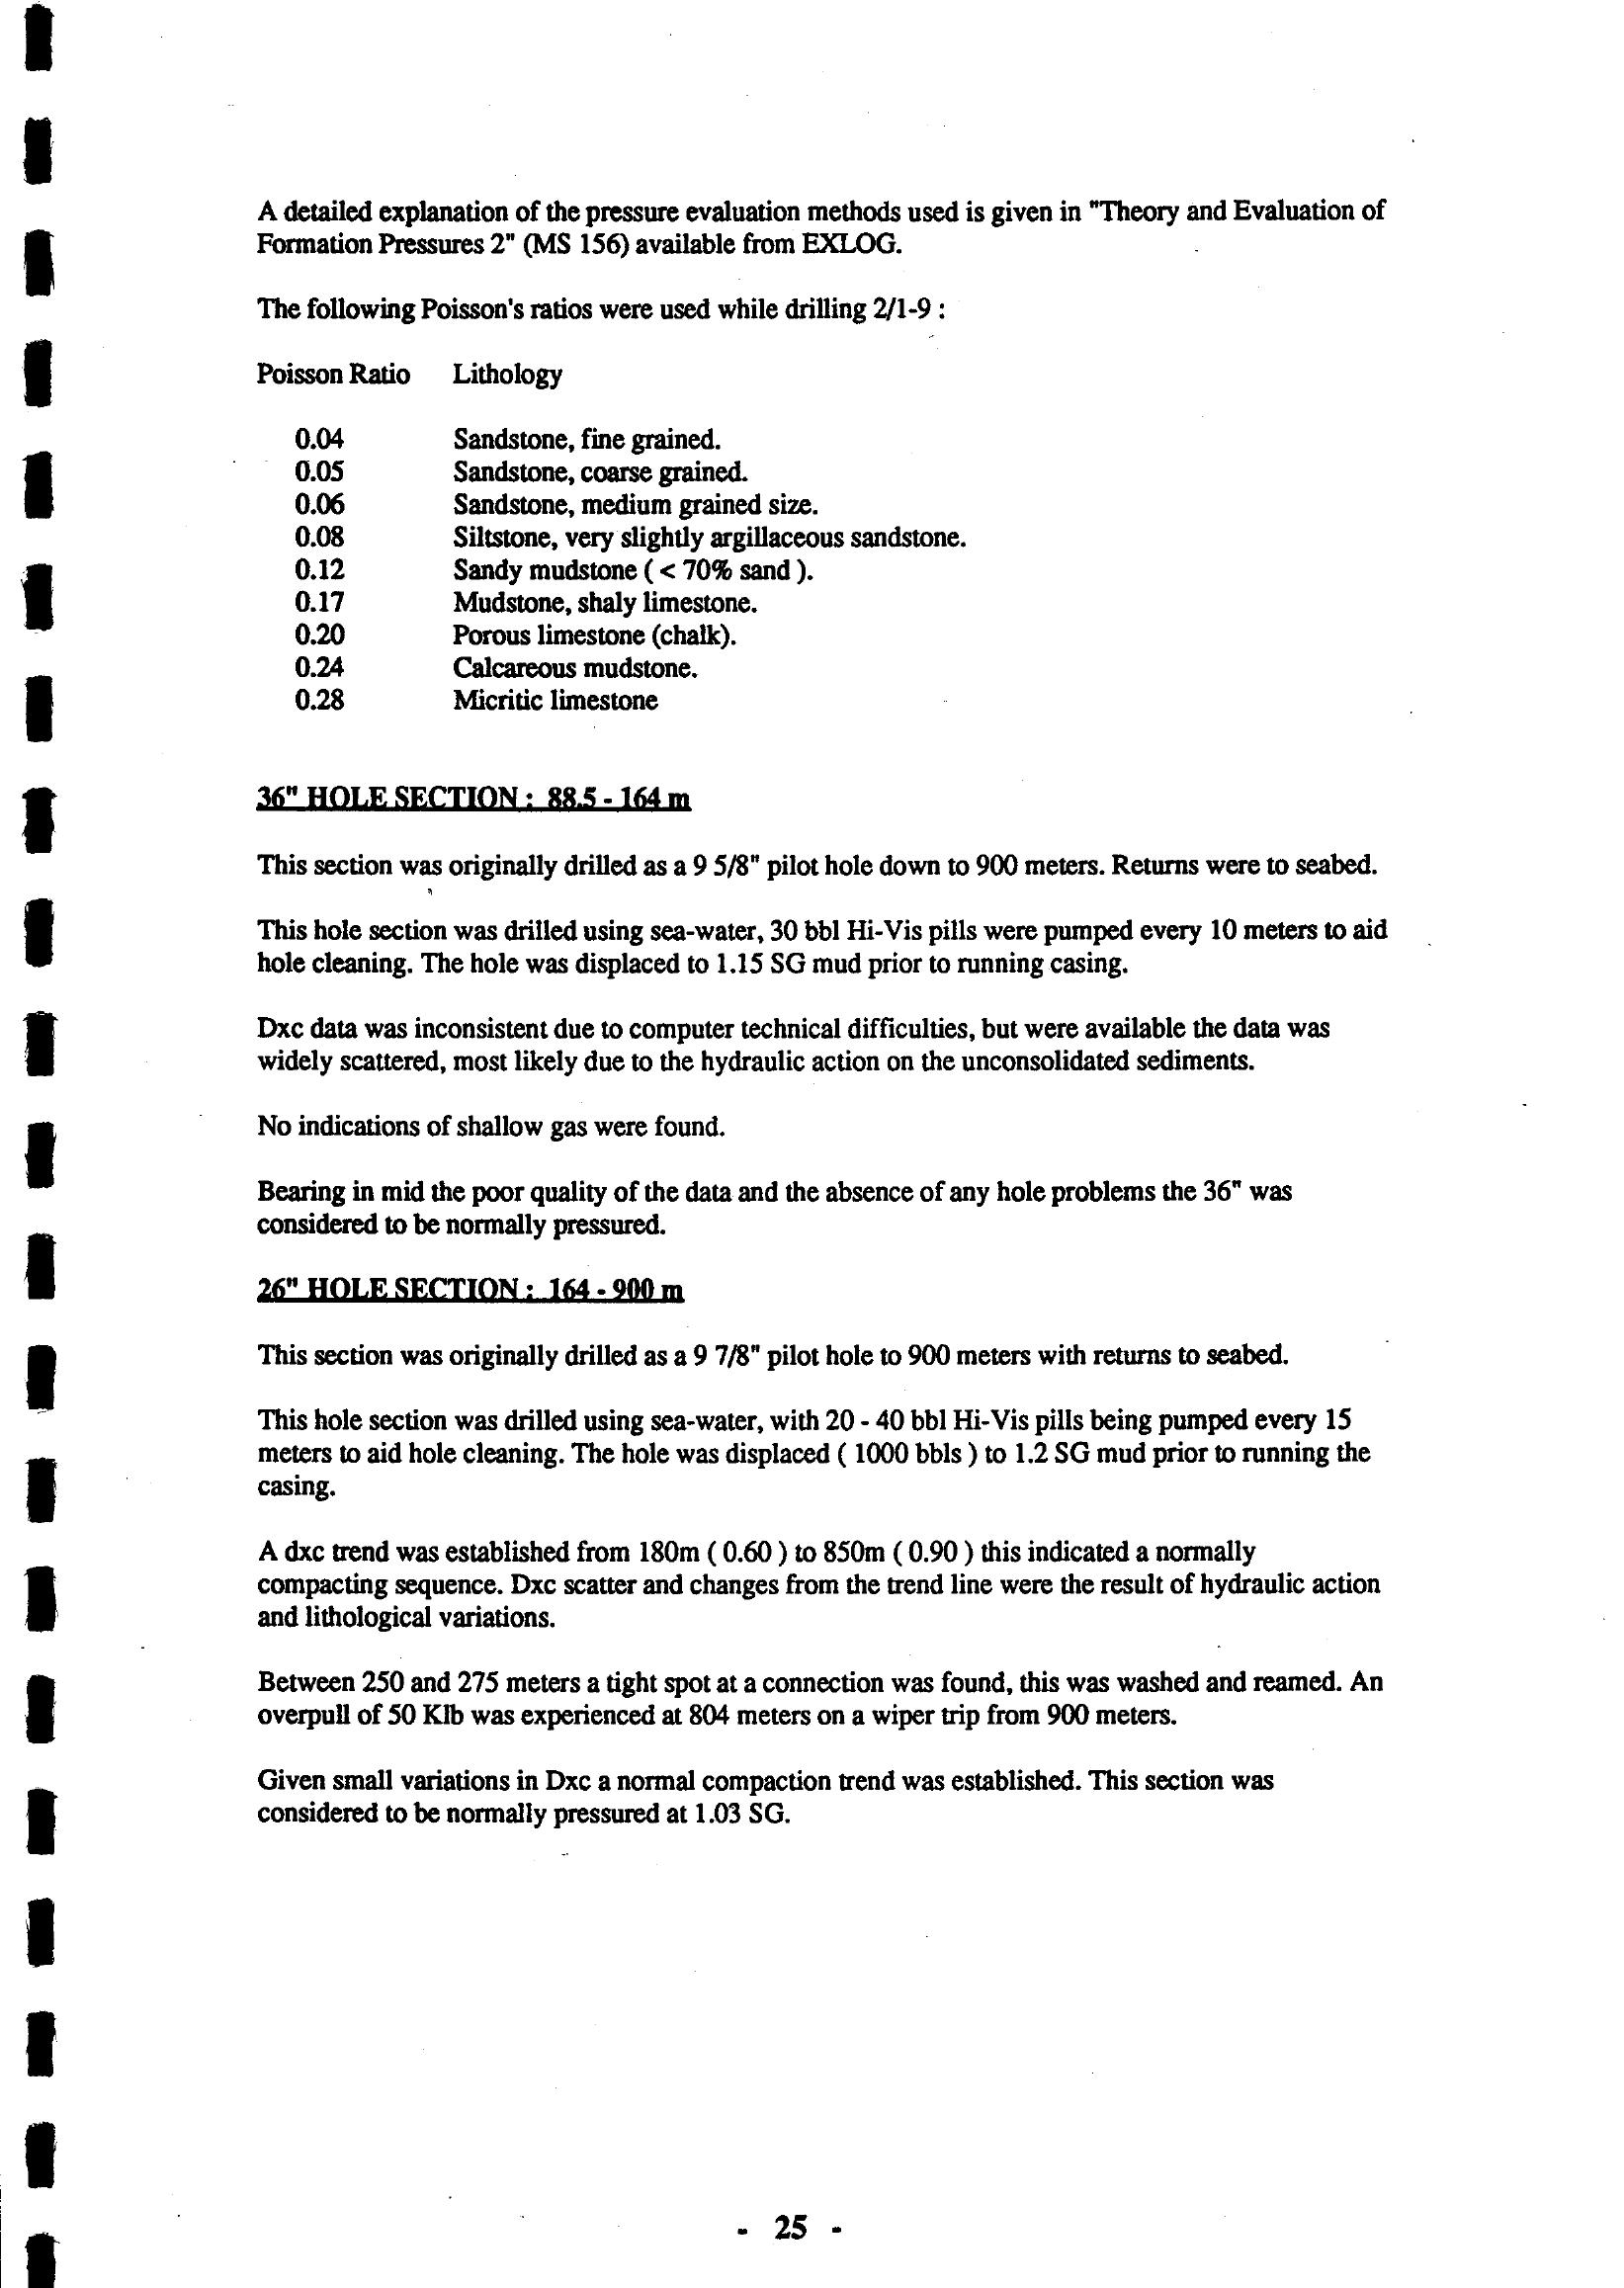text: (202, 177, 1439, 1875)
